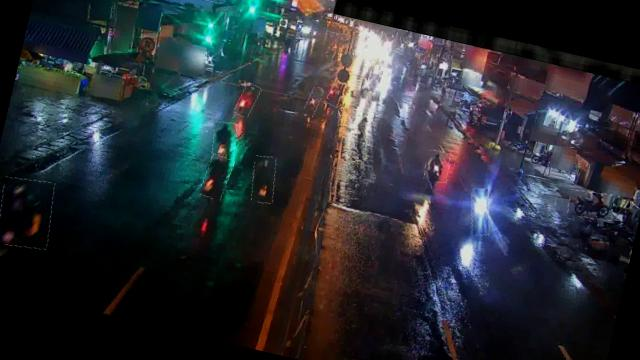Bike: (0, 174, 58, 253), (566, 187, 616, 224), (247, 154, 280, 205), (200, 154, 234, 202), (208, 121, 242, 168), (464, 188, 495, 238), (422, 148, 452, 184), (234, 82, 260, 119), (326, 80, 351, 110), (304, 86, 323, 118)
